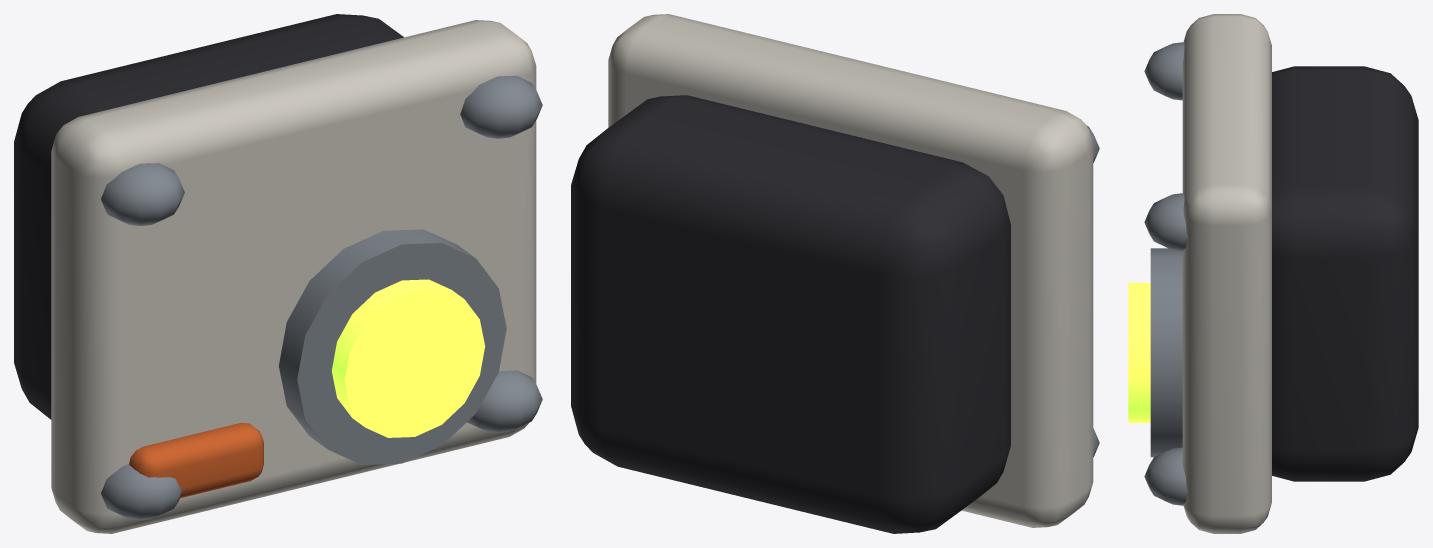
File: co_bile.glb
3 views of the same model, side by side, from view 1: azimuth 30°, elevation 25°; view 2: azimuth 150°, elevation 25°; view 3: azimuth 270°, elevation 25° (orthographic). The views are drawn at different scales.
Visible parts, largest first — view 1: co_bile; view 2: co_bile; view 3: co_bile.
Part boxes in pixels (x1,y1,x2,y2): co_bile: (14,14,542,533); co_bile: (571,14,1099,533); co_bile: (1128,14,1418,533).
Size of the model in its own units: 0.1548 by 0.129 by 0.0978.
